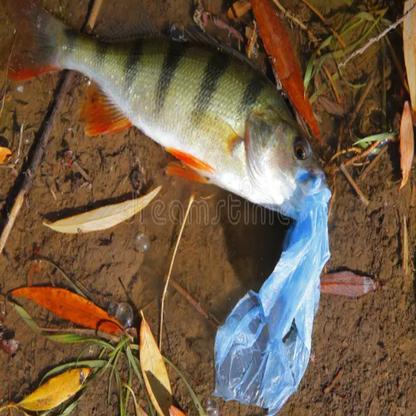deceased fish: (25, 9, 328, 213)
